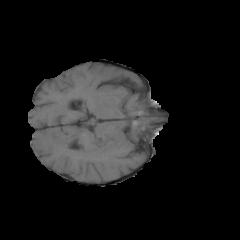glioma: (68, 127, 134, 154)
